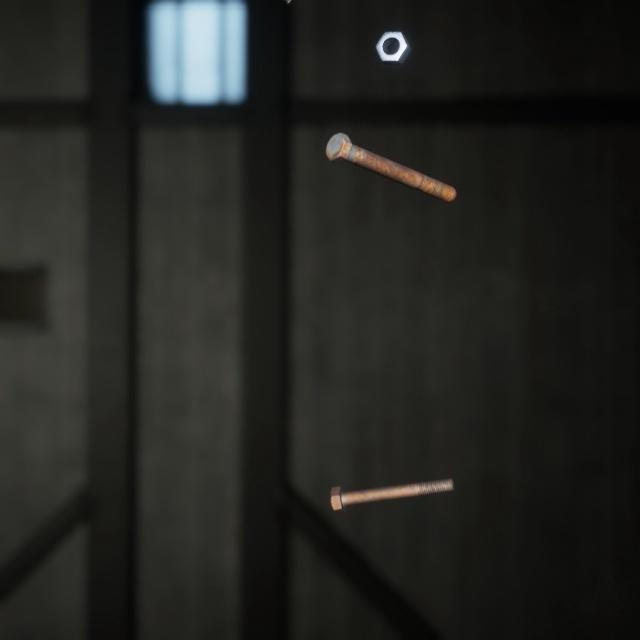bolt: (321, 114, 460, 193), (325, 453, 459, 498)
nut: (370, 18, 416, 60)
